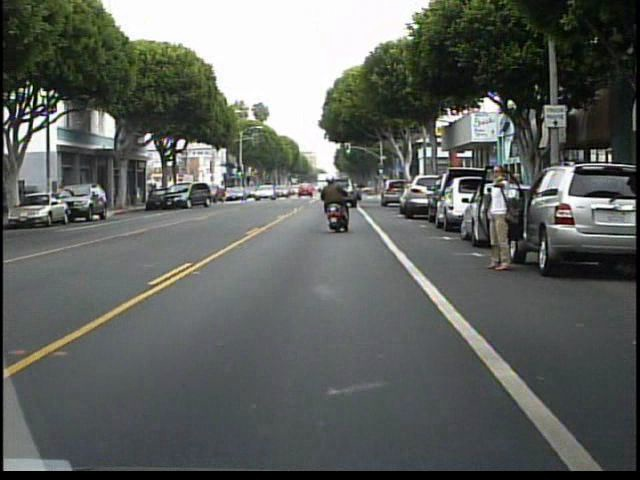person: (482, 158, 513, 271), (315, 170, 355, 232)
